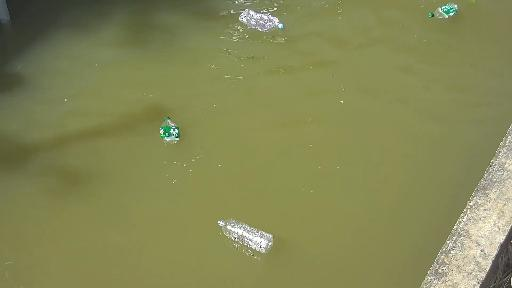leaf: (466, 0, 478, 7)
plastic: (204, 195, 295, 268), (129, 110, 204, 157), (235, 3, 290, 38), (433, 1, 459, 29)
